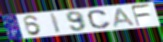6: (23, 14, 42, 36)
9: (65, 10, 89, 32)
A: (113, 7, 137, 29)
C: (87, 9, 113, 30)
F: (130, 3, 152, 27)
I: (49, 13, 63, 35)
